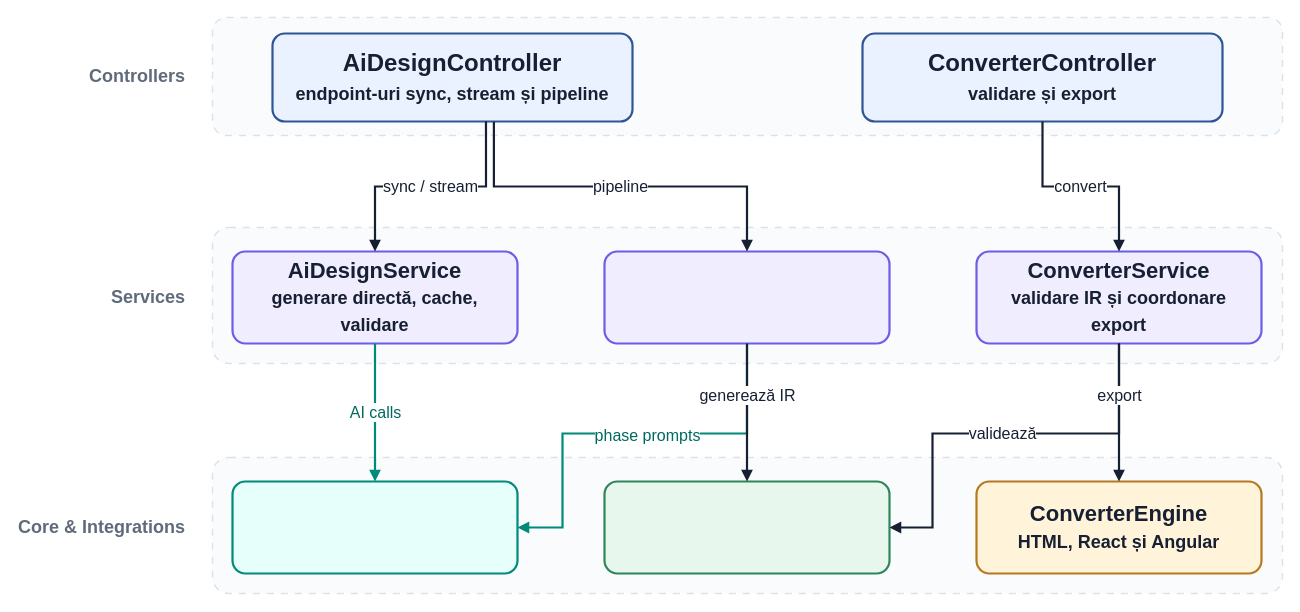
This 1300x612 diagram has some shape labels left out. The shapes that lost their labels are listed below. From the top down, each one's centre as x and y in pixels, then its label:
[746,297]: AiPipelineService orchestrare pe faze și reparare
[374,527]: OpenAiClient adaptor HTTP și streaming SSE
[746,527]: IRNode model intern pentru layout și stil
